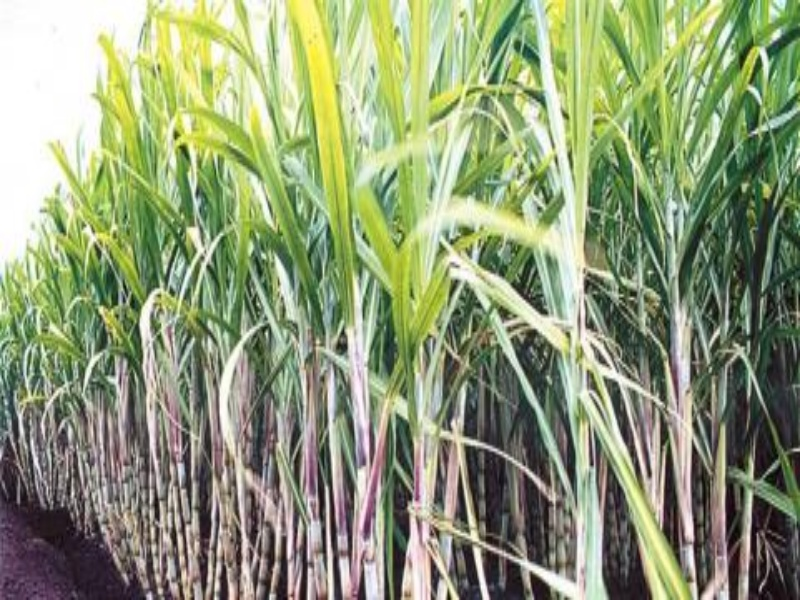sugarcane: (1, 8, 786, 594)
